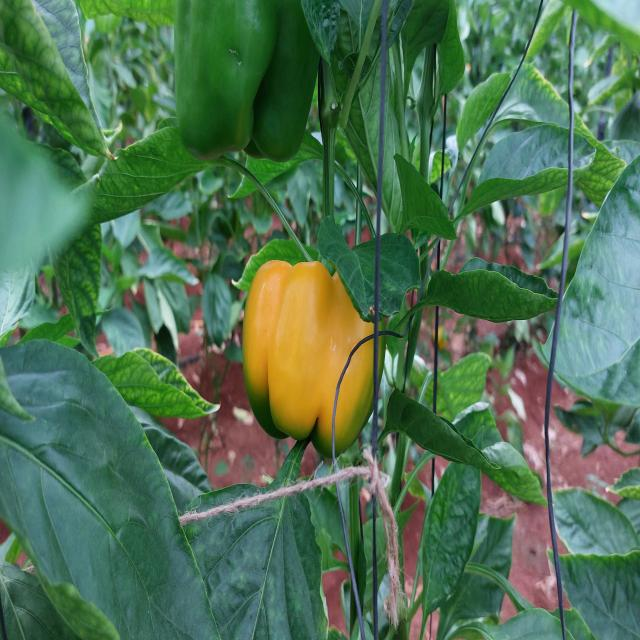Yellow-Ready-to-Harvest: (247, 255, 397, 437)
